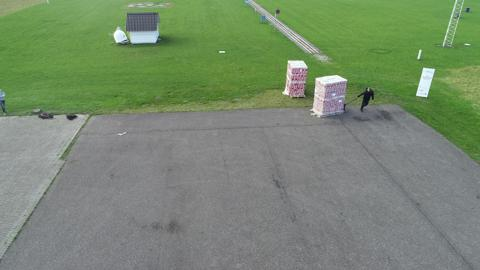RockwoolPallet: (285, 60, 308, 99)
